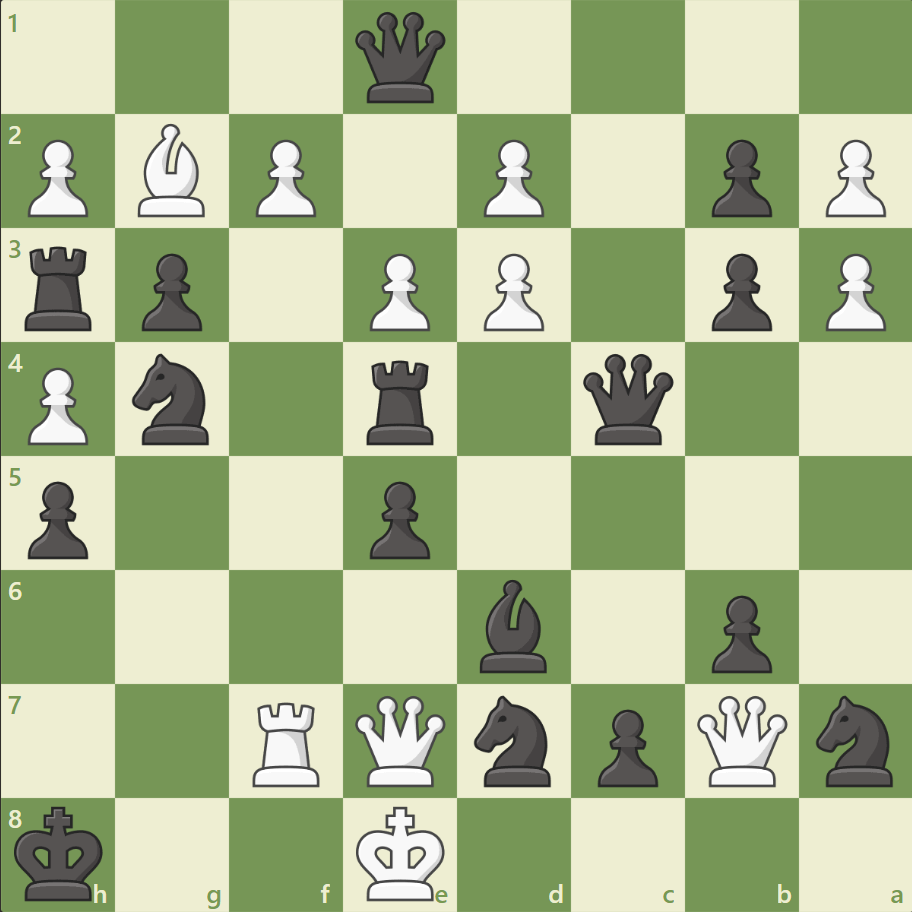B: (131, 120, 215, 222)
K: (351, 798, 451, 906)
P: (20, 359, 95, 450), (474, 246, 549, 337), (474, 132, 549, 223), (247, 132, 322, 223), (20, 132, 95, 223), (815, 246, 889, 337), (361, 246, 435, 337), (815, 132, 889, 223)
Q: (691, 690, 790, 789), (351, 690, 450, 789)
R: (246, 693, 329, 790)
b: (471, 574, 555, 676)
k: (11, 798, 111, 906)
n: (124, 348, 222, 450), (806, 688, 903, 791), (465, 688, 562, 791)
p: (701, 586, 776, 677), (20, 473, 95, 564), (701, 246, 776, 337), (133, 246, 208, 337), (701, 132, 776, 223), (588, 700, 662, 791), (361, 473, 435, 564)
q: (578, 349, 677, 449), (351, 9, 450, 108)
r: (19, 239, 102, 336), (360, 352, 442, 449)
